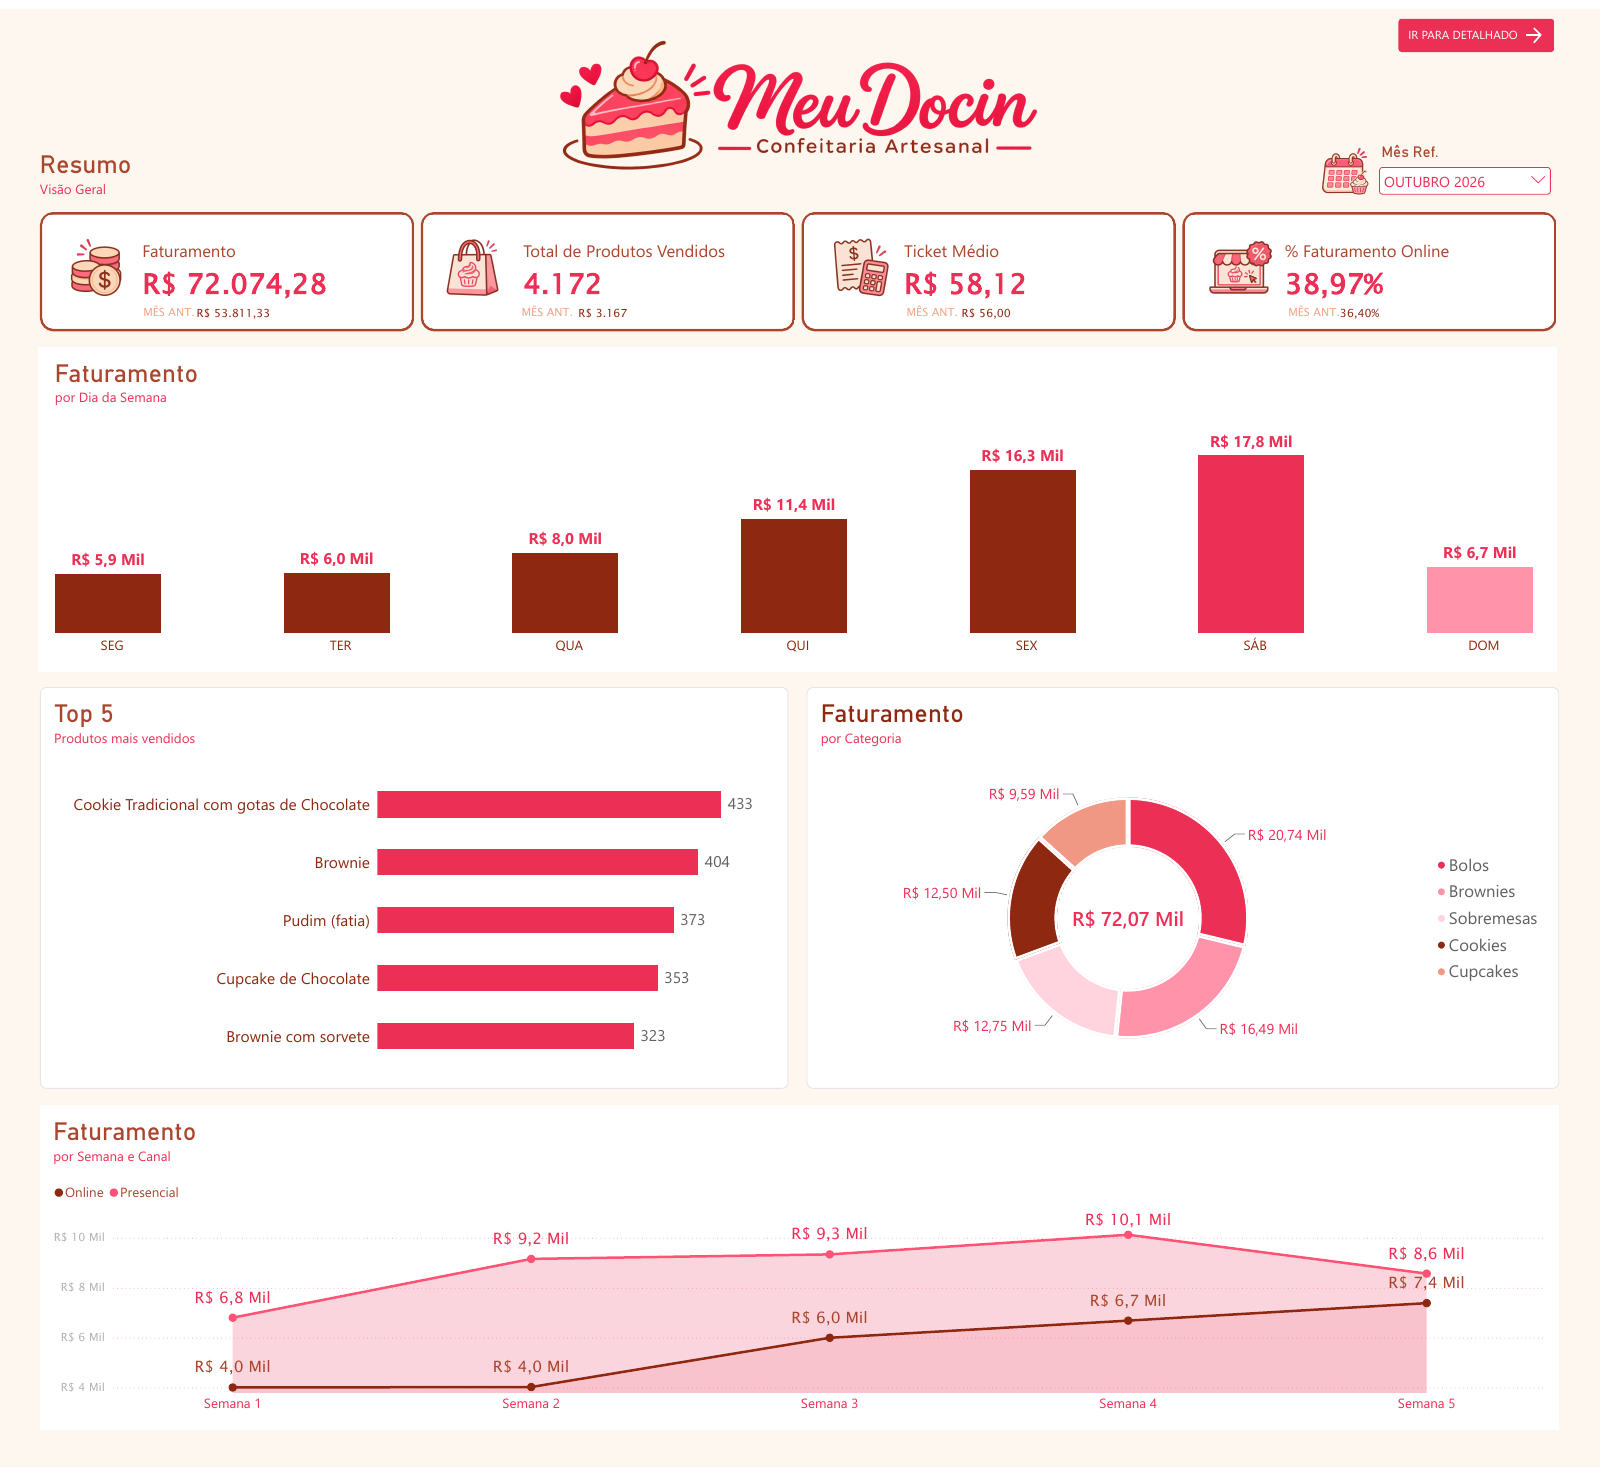

Layout of this report page (visuals, bound fields, positions):
{"tool":"powerbi","page":{"name":"Resumo","canvas":[1920,1750],"ordinal":0},"visuals":[{"type":"image","box":[626.7,13.3,663.3,215],"z":0},{"type":"cardVisual","title":"Resumo","fields":{"Data":["Medidas.Faturamento","Medidas.Total Produtos Vendidos","Medidas.Ticket Médio","Medidas.% Vendas"]},"box":[48.3,170.3,1822.9,217.1],"z":0,"group":"g2"},{"type":"image","box":[83.1,276.6,67.1,68.6],"z":0,"group":"g1"},{"type":"slicer","fields":{"Values":["dCalendario.Mês Ref"]},"box":[1649.7,162.2,215.7,74.3],"z":1000,"group":"g3"},{"type":"image","box":[536,276.6,67.1,68.6],"z":1000,"group":"g1"},{"type":"areaChart","title":"Faturamento","fields":{"Category":["dCalendario.Num Semana no Mês"],"Series":["dCanal.Canal"],"Y":["Medidas.Faturamento"]},"box":[48.3,1315,1823.3,390],"z":1000},{"type":"image","box":[1000.2,276.6,67.1,68.6],"z":2000,"group":"g1"},{"type":"donutChart","fields":{"Category":["dCategoria.Categoria"],"Y":["Medidas.Faturamento"]},"box":[968.3,813.3,903.3,481.7],"z":2000},{"type":"image","box":[1578.3,160.8,75.7,68.6],"z":3000,"group":"g3"},{"type":"group","id":"g1","title":"Grupo 1","box":[83.1,276.6,1444.3,68.6],"z":3000,"group":"g2"},{"type":"image","box":[1450.2,276.6,77.1,68.6],"z":3000,"group":"g1"},{"type":"clusteredBarChart","title":"Top 5","fields":{"Category":["dProduto.Produto"],"Y":["Medidas.Total Produtos Vendidos"]},"box":[48.3,813.3,898.3,481.7],"z":3000},{"type":"group","id":"g2","title":"Grupo 2","box":[48.3,170.3,1822.9,217.1],"z":4000},{"type":"group","id":"g3","title":"Grupo 3","box":[1578.3,160.8,287.1,75.7],"z":5000},{"type":"clusteredColumnChart","title":"Faturamento","fields":{"Category":["dCalendario.Nome Dia"],"Y":["Medidas.Faturamento"]},"box":[46.7,405,1823.3,390],"z":6000},{"type":"actionButton","box":[1678.6,12.9,187.1,40],"z":7000},{"type":"cardVisual","title":"Resumo","fields":{"Data":["Medidas.Fat Mês Anterior"]},"box":[116,342,244.2,44.2],"z":8000,"group":"g4"},{"type":"textbox","box":[171.6,354.5,65.7,22.4],"z":9000,"group":"g4"},{"type":"textbox","box":[626.9,354.5,65.7,22.4],"z":10000,"group":"g4"},{"type":"textbox","box":[1087.3,354.5,65.7,22.4],"z":11000,"group":"g4"},{"type":"textbox","box":[1545.5,354.5,65.7,22.4],"z":12000,"group":"g4"},{"type":"cardVisual","title":"Resumo","fields":{"Data":["Medidas.Total Produtos Mês Anterior"]},"box":[573,342,212.8,44.2],"z":13000,"group":"g4"},{"type":"cardVisual","title":"Resumo","fields":{"Data":["Medidas.Ticket Médio Mês Anterior"]},"box":[1033.7,341.9,214,44.2],"z":14000,"group":"g4"},{"type":"cardVisual","title":"Resumo","fields":{"Data":["Medidas.% Vendas Online Mês Anterior"]},"box":[1488.4,342,216.3,44.2],"z":15000,"group":"g4"},{"type":"group","id":"g4","title":"Grupo 4","box":[116,341.9,1588.7,44.3],"z":15001}]}

Visuals, with their boxes in screenshot pixels (x1, y1, x2, y2), scaled from the page's 1920x1750 canvas onto the 1600x1476 screenshot:
image: {"x1": 522, "y1": 11, "x2": 1075, "y2": 193}
"Resumo" cardVisual: {"x1": 40, "y1": 144, "x2": 1559, "y2": 327}
image: {"x1": 69, "y1": 233, "x2": 125, "y2": 291}
slicer - dCalendario.Mês Ref: {"x1": 1375, "y1": 137, "x2": 1555, "y2": 199}
image: {"x1": 447, "y1": 233, "x2": 503, "y2": 291}
"Faturamento" areaChart: {"x1": 40, "y1": 1109, "x2": 1560, "y2": 1438}
image: {"x1": 834, "y1": 233, "x2": 889, "y2": 291}
donutChart - dCategoria.Categoria x Medidas.Faturamento: {"x1": 807, "y1": 686, "x2": 1560, "y2": 1092}
image: {"x1": 1315, "y1": 136, "x2": 1378, "y2": 193}
"Grupo 1" group: {"x1": 69, "y1": 233, "x2": 1273, "y2": 291}
image: {"x1": 1208, "y1": 233, "x2": 1273, "y2": 291}
"Top 5" clusteredBarChart: {"x1": 40, "y1": 686, "x2": 789, "y2": 1092}
"Grupo 2" group: {"x1": 40, "y1": 144, "x2": 1559, "y2": 327}
"Grupo 3" group: {"x1": 1315, "y1": 136, "x2": 1555, "y2": 199}
"Faturamento" clusteredColumnChart: {"x1": 39, "y1": 342, "x2": 1558, "y2": 671}
actionButton: {"x1": 1399, "y1": 11, "x2": 1555, "y2": 45}
"Resumo" cardVisual: {"x1": 97, "y1": 288, "x2": 300, "y2": 326}
textbox: {"x1": 143, "y1": 299, "x2": 198, "y2": 318}
textbox: {"x1": 522, "y1": 299, "x2": 577, "y2": 318}
textbox: {"x1": 906, "y1": 299, "x2": 961, "y2": 318}
textbox: {"x1": 1288, "y1": 299, "x2": 1343, "y2": 318}
"Resumo" cardVisual: {"x1": 478, "y1": 288, "x2": 655, "y2": 326}
"Resumo" cardVisual: {"x1": 861, "y1": 288, "x2": 1040, "y2": 326}
"Resumo" cardVisual: {"x1": 1240, "y1": 288, "x2": 1421, "y2": 326}
"Grupo 4" group: {"x1": 97, "y1": 288, "x2": 1421, "y2": 326}
